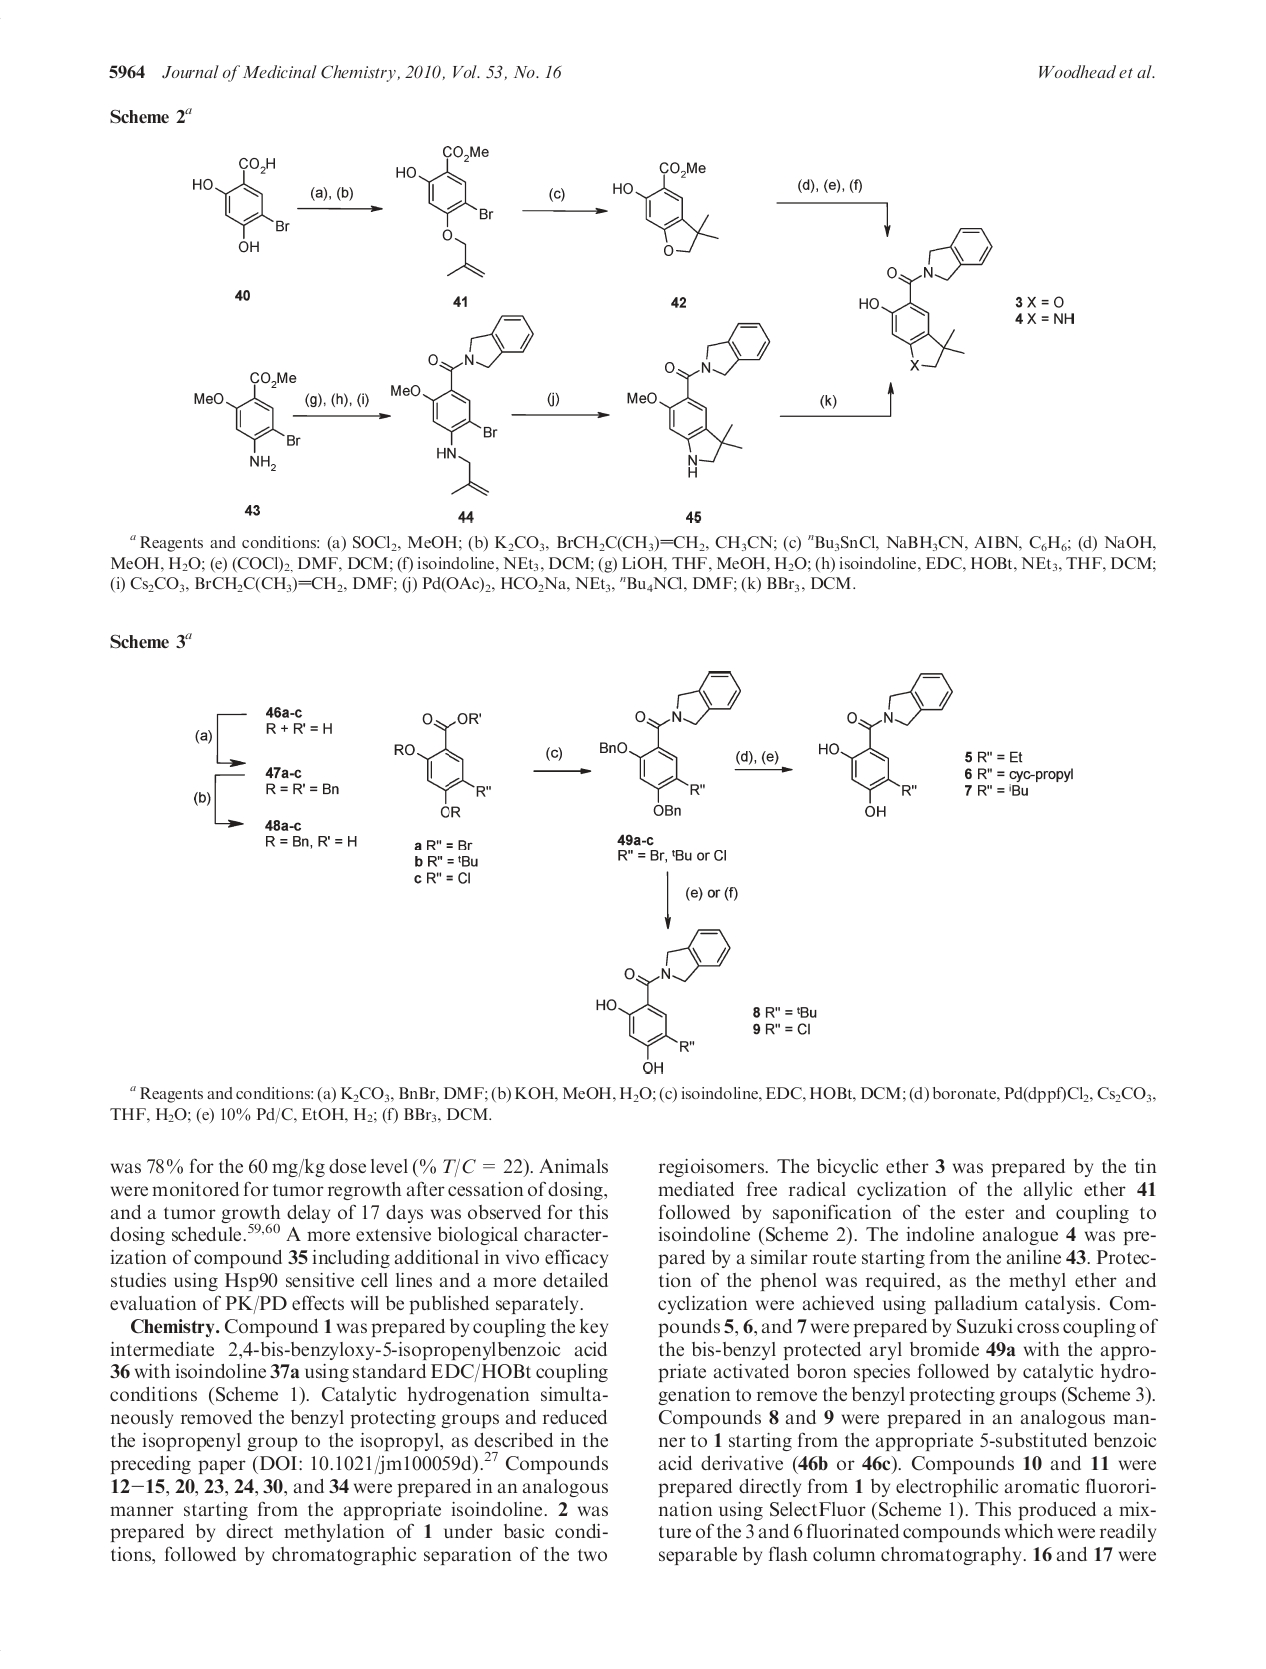exist_molecular: (386, 307, 537, 500), (622, 313, 778, 491), (592, 661, 750, 818), (594, 918, 739, 1081), (852, 219, 997, 374), (815, 665, 957, 819), (392, 140, 495, 282), (190, 360, 313, 475), (606, 154, 734, 261), (388, 702, 492, 823), (188, 144, 295, 254)
